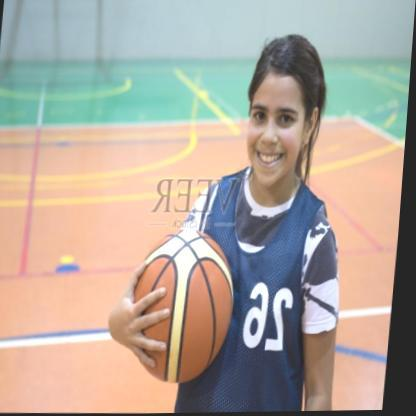basketball: (132, 229, 242, 384)
